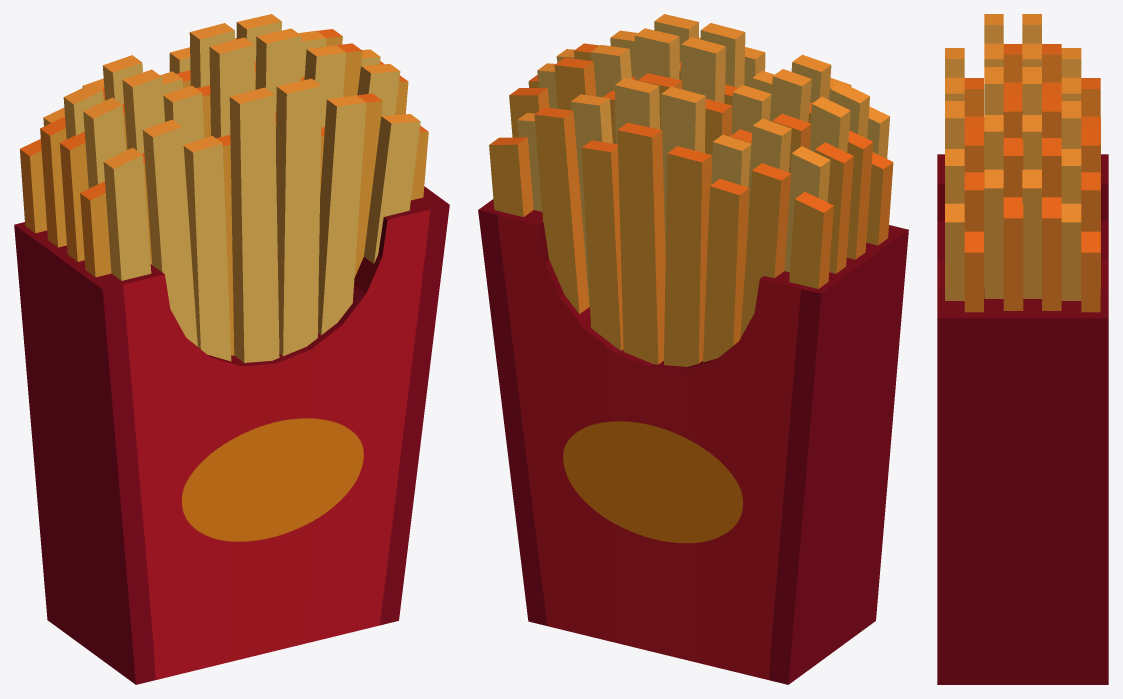
Rendered from Fries_Box_6.glb.
The picture shows the model from 3 angles, left to right: view 1: azimuth 30°, elevation 25°; view 2: azimuth 150°, elevation 25°; view 3: azimuth 270°, elevation 25°; orthographic projection. The views are drawn at different scales.
Parts seen in each view (by area): view 1: Fries_Box_6; view 2: Fries_Box_6; view 3: Fries_Box_6.
Part boxes in pixels (x1,y1,x2,y2): Fries_Box_6: (14,14,449,684); Fries_Box_6: (478,14,908,684); Fries_Box_6: (937,14,1108,684).
Bounding box in the file's own units: 0.1188 × 0.1922 × 0.0525.
2 materials, 2 textured.
